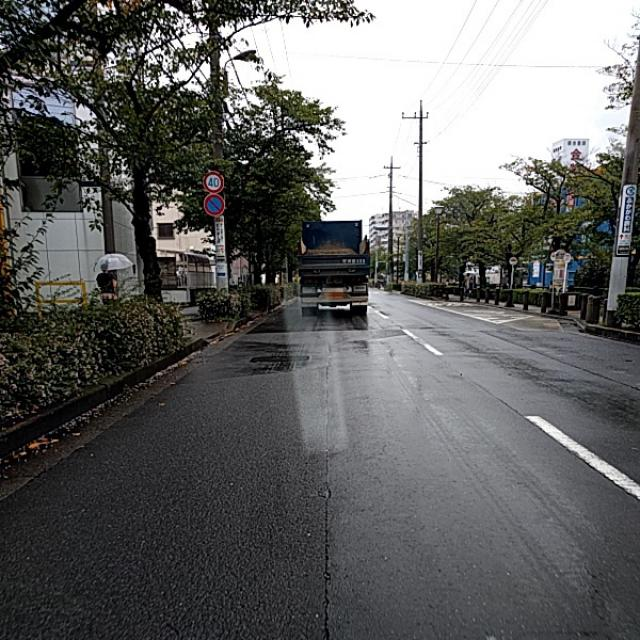pothole: (276, 466, 352, 590)
